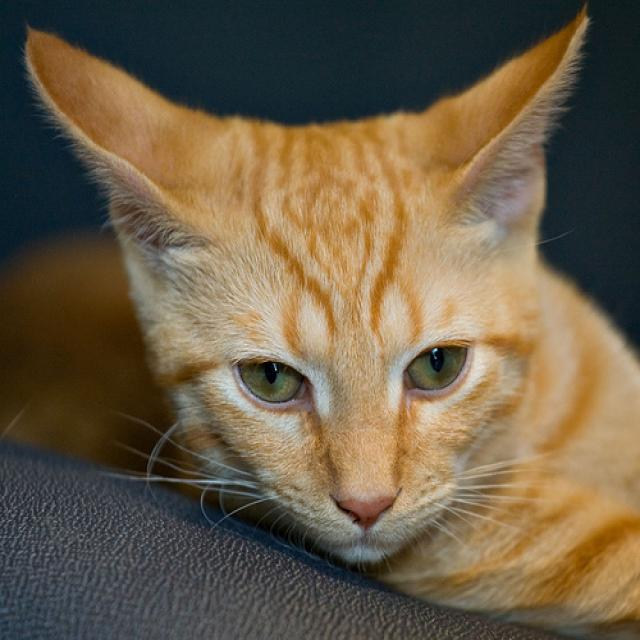cat: (19, 4, 640, 637)
